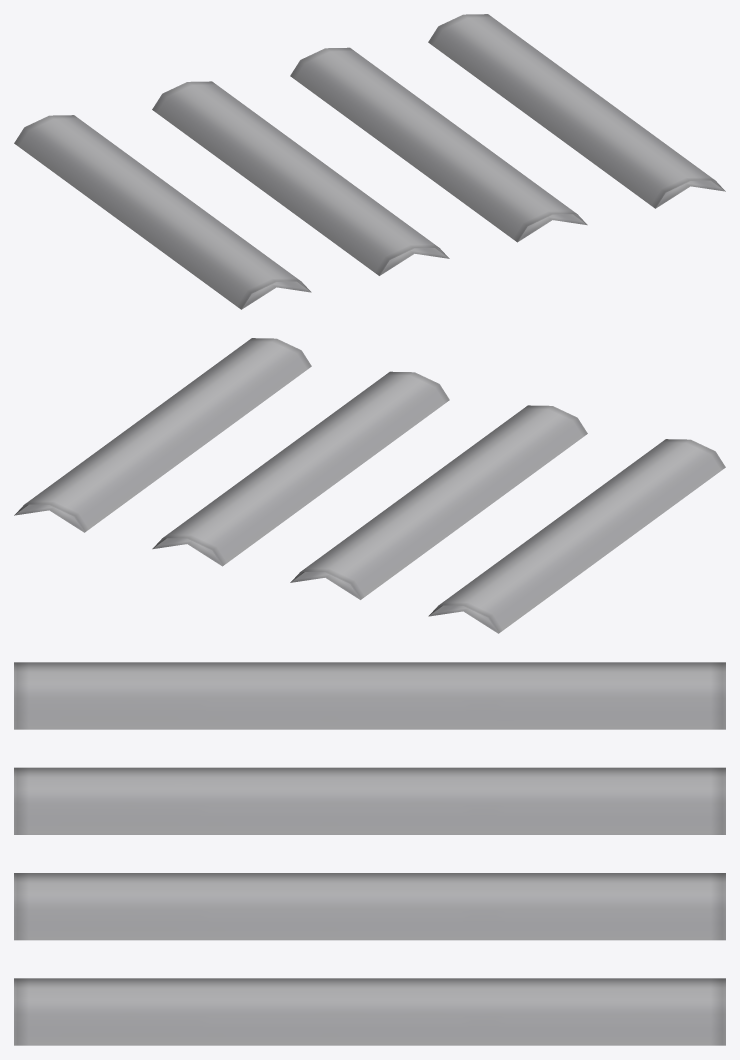
The model's file is jsf_GasJetCover_01.fbx.
3 views of the same model, one above another, from view 1: azimuth 30°, elevation 25°; view 2: azimuth 150°, elevation 25°; view 3: azimuth 270°, elevation 25° (orthographic). The views are drawn at different scales.
Visible parts, largest first — view 1: jsf_GasJetCover_01; view 2: jsf_GasJetCover_01; view 3: jsf_GasJetCover_01.
Part boxes in pixels (x1,y1,x2,y2): jsf_GasJetCover_01: [14, 14, 725, 309]; jsf_GasJetCover_01: [14, 338, 725, 633]; jsf_GasJetCover_01: [14, 662, 725, 1045].
Bounding box in the file's own units: 65.38 × 2.48 × 53.15.
